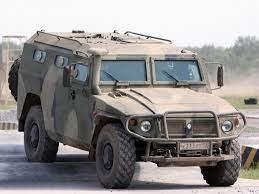armored_car: (10, 20, 248, 194)
